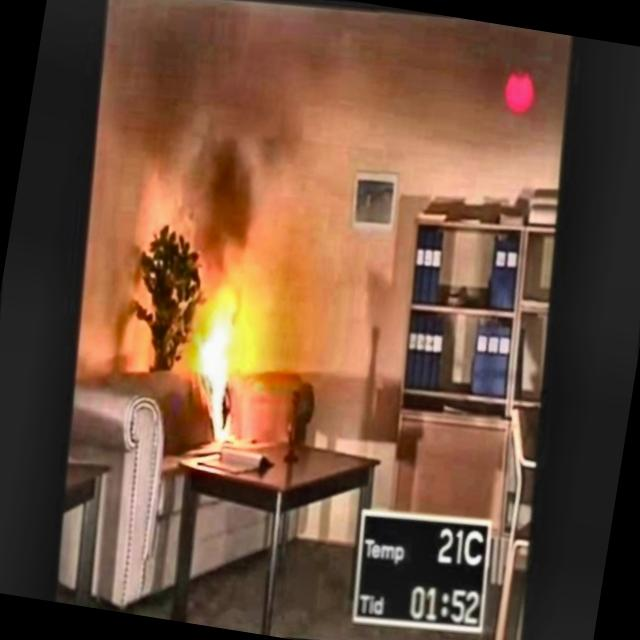fire: (176, 291, 257, 424)
